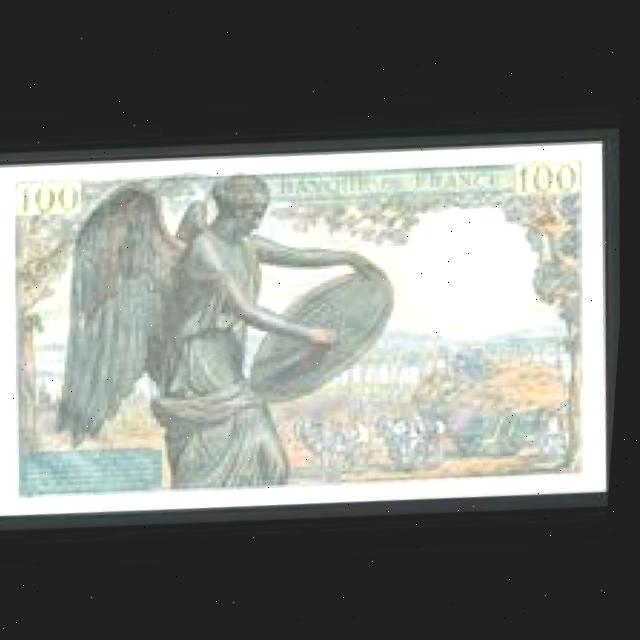banknote: (0, 121, 634, 532), (15, 179, 87, 221), (514, 156, 587, 194)
